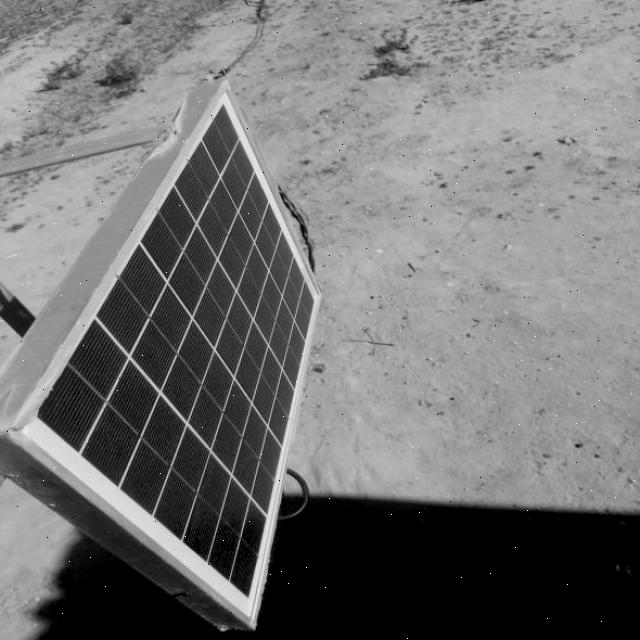Normal Solar Panel: (5, 87, 324, 624)
